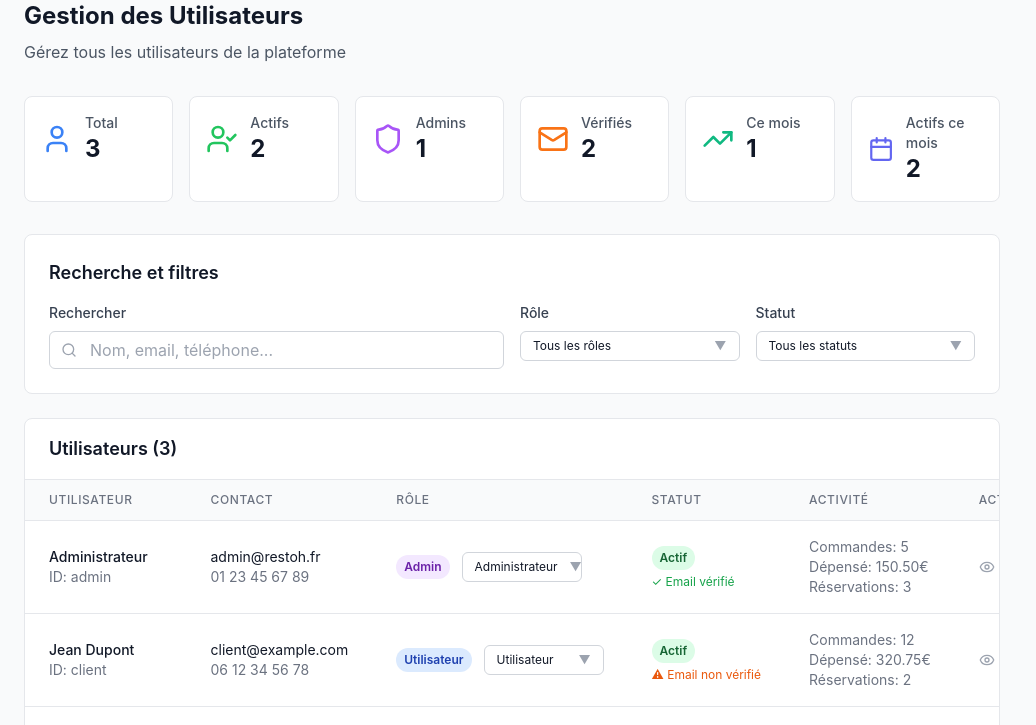
Test: UsersManagement Component › Search Functionality › should filter users by search query (name)
(page scrolled)
Search by name - should filter out other users visually
In the field with placeholder "Nom, email, téléphone...": coordinates (276, 350) [49, 331, 504, 369], type "Jean"
(page scrolled)
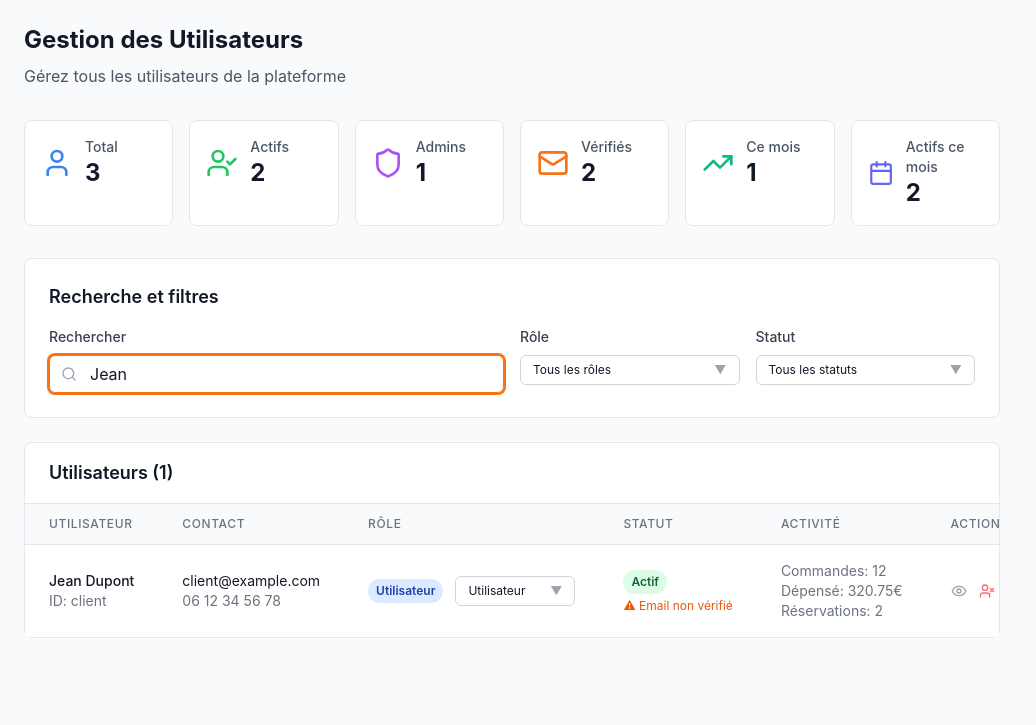
Expected: the text "Jean Dupont" is shown 2 times
Expected: the text "Administrateur" is gone
